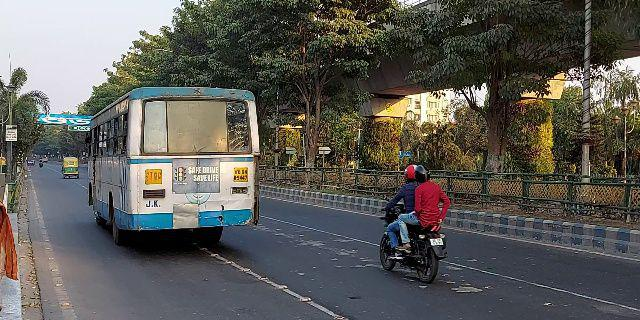Autorickshaw: (60, 153, 82, 182)
Bus: (84, 86, 265, 251)
Motorbike: (375, 161, 454, 288)
